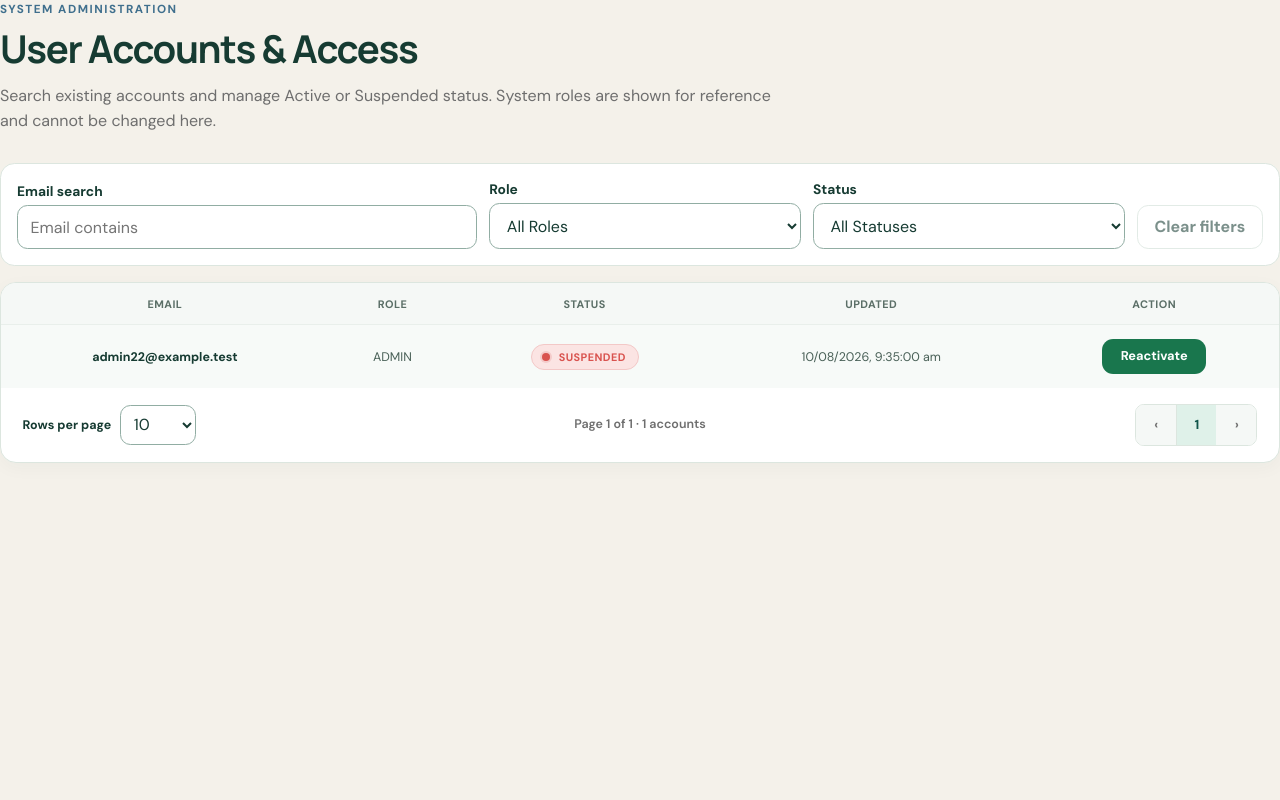
Scenario: UserAccessPage UC13 account status management › opens the Reactivate status modal for a suspended account
Expected: the column heading "admin22@example.test" is shown, [1,325,329,388]
Step 1. Click the button "Reactivate" → click(1154, 357), box [1102,339,1206,374]
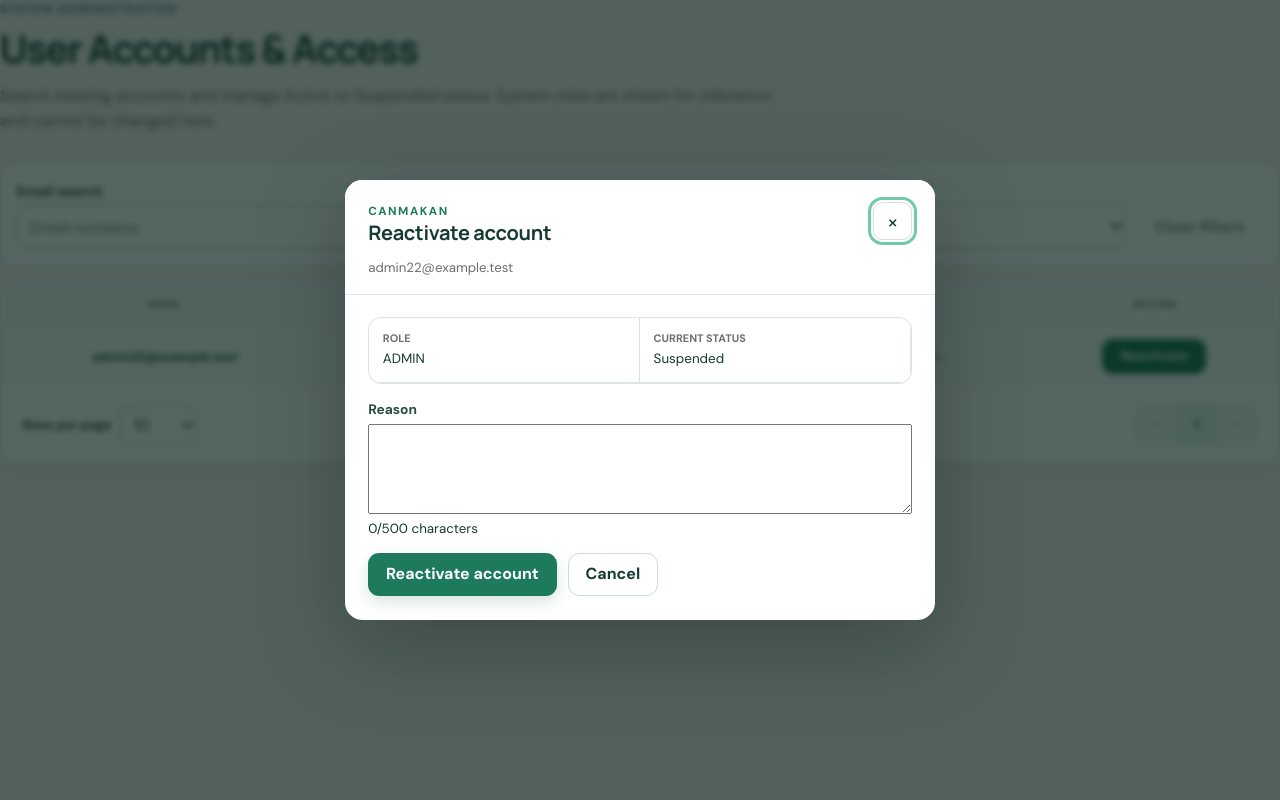
Expected: the heading "Reactivate account" is shown, [368,221,551,244]
Expected: the text "admin22@example.test" is shown, [368,259,513,276]
